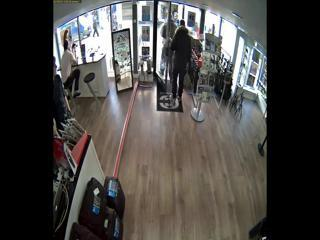Normal: (170, 24, 193, 102)
